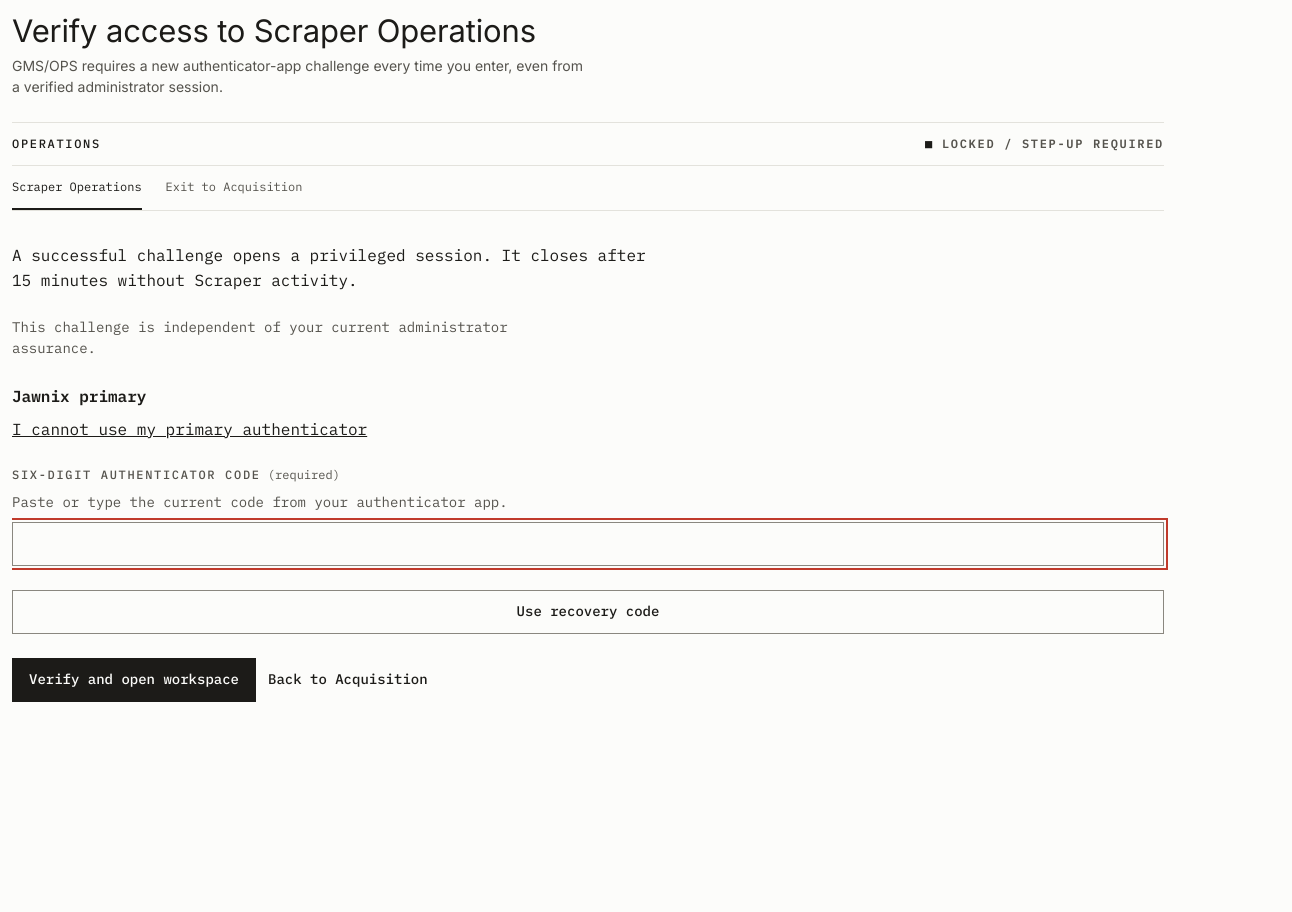
it: Scraper Operations workspace › explains and collects the mandatory fresh challenge
The width and height of the screenshot is (1292, 912).
Check: the heading "Verify access to Scraper Operations" is shown, box [12,12,586,51]
Check: the element named "Scraper Operations workspace" is shown, box [12,122,1164,734]
Click the button "I cannot use my primary authenticator": (190, 429) [12,417,367,442]
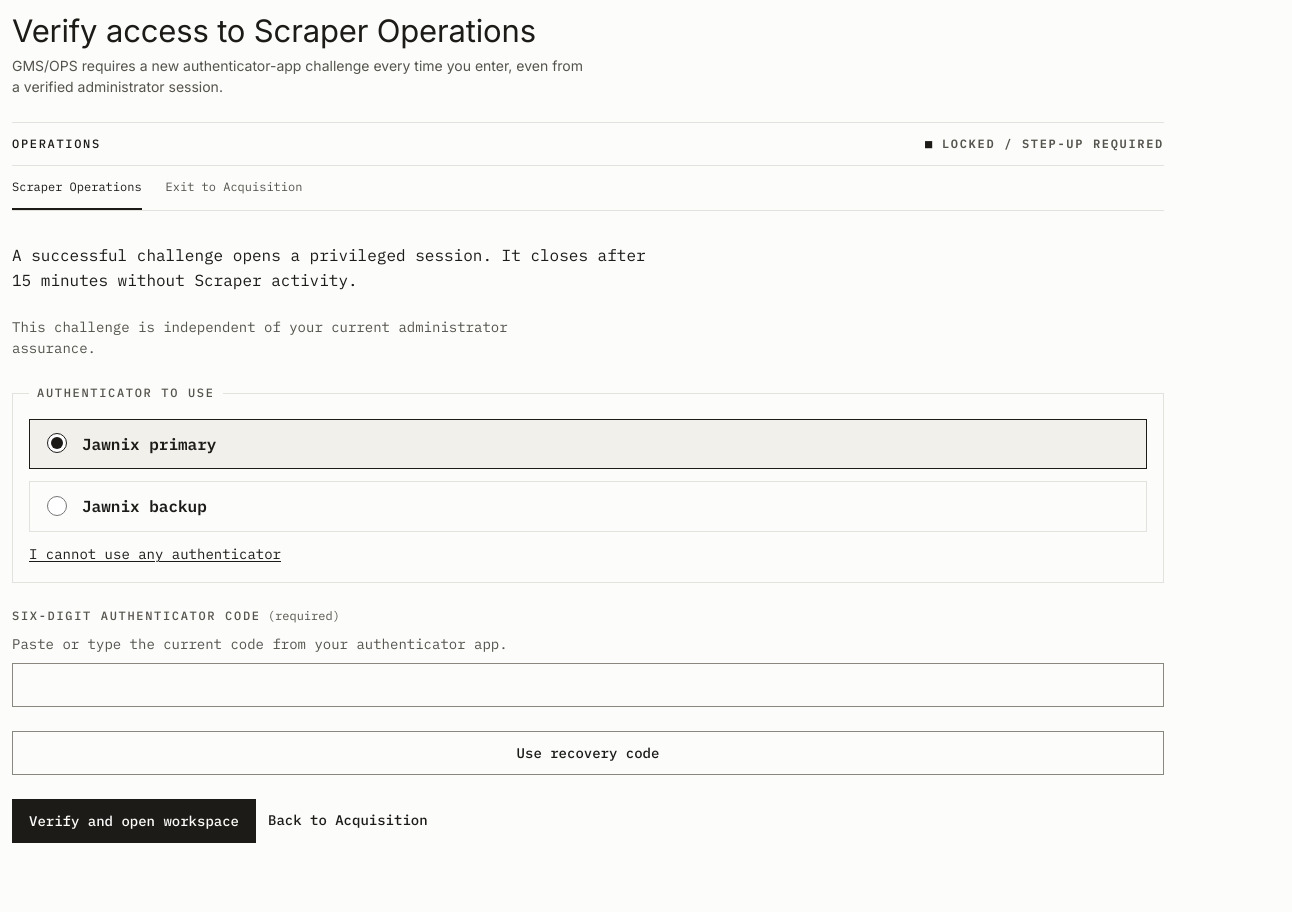
Check: the text "closes after 15 minutes without Scraper activity" is shown, box [12,245,646,290]
Check: the number of radio buttons is 2, box [47,433,67,453]; [47,496,67,516]
